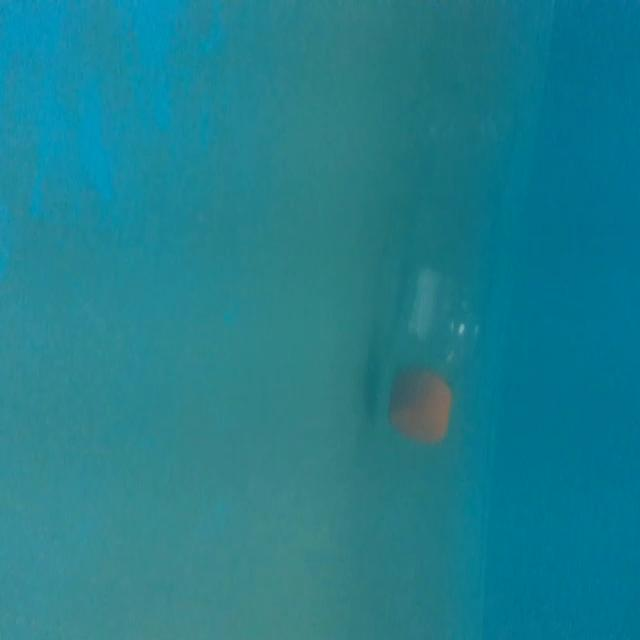plastic bottle: (386, 70, 521, 458)
